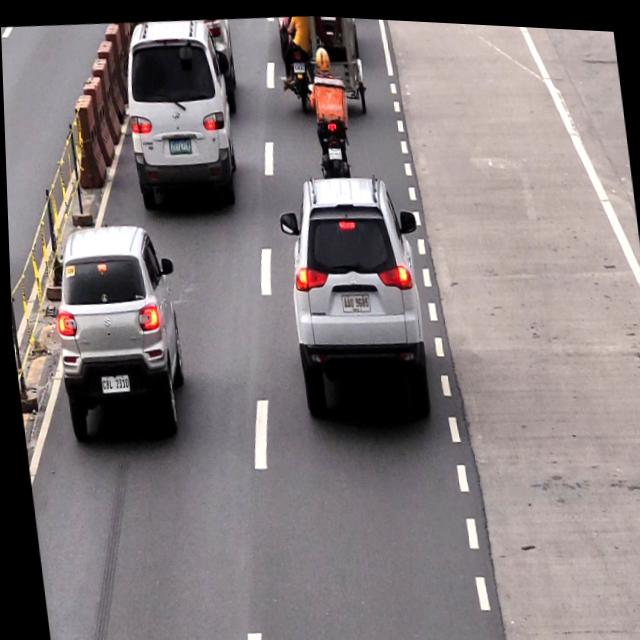Car: (278, 167, 431, 419), (49, 222, 185, 442), (118, 13, 240, 212)
License-Plate: (336, 287, 371, 311), (97, 372, 128, 396), (165, 132, 192, 157)
Motorcycle: (308, 45, 349, 178)
